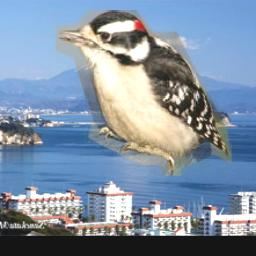Woodpecker: (56, 11, 232, 177)
